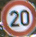20 km speed: (1, 1, 36, 36)
